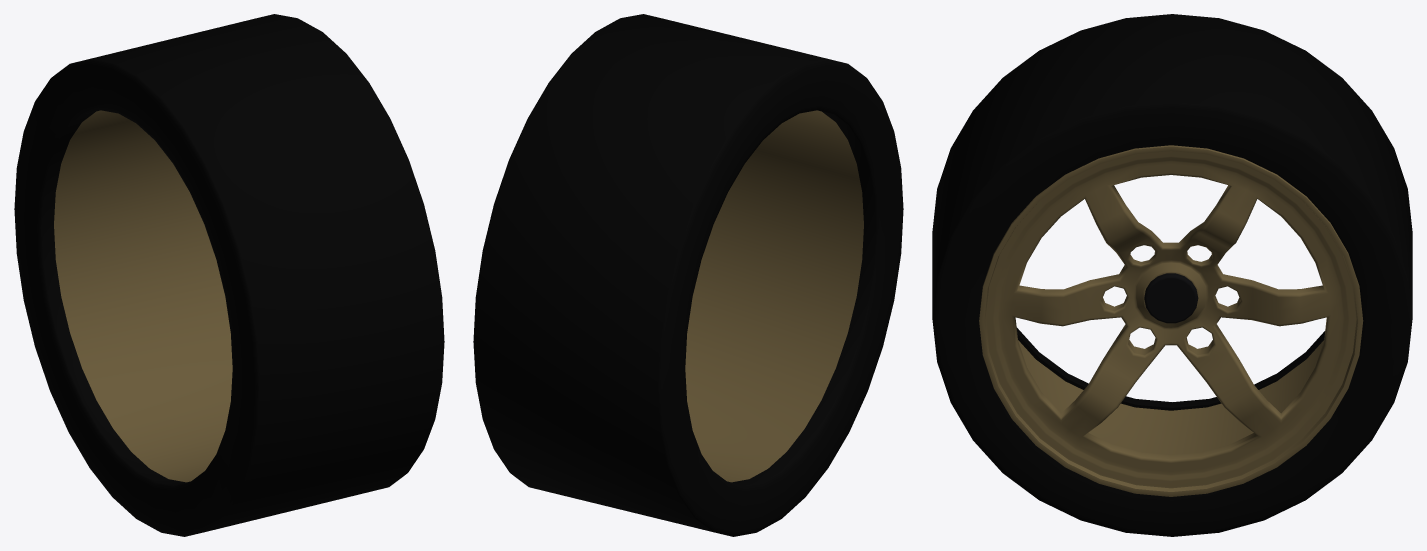
Rendered from wheels_v4.FBX.
3 views of the same model, side by side, from view 1: azimuth 30°, elevation 25°; view 2: azimuth 150°, elevation 25°; view 3: azimuth 270°, elevation 25° (orthographic).
Visible parts, largest first — view 1: Object042; view 2: Object042; view 3: Object042.
Part boxes in pixels (x1=…): Object042: x1=14, y1=14, x2=444, y2=536; Object042: x1=473, y1=14, x2=903, y2=536; Object042: x1=932, y1=14, x2=1412, y2=536.
Size of the model in its own units: 11.7 by 24.94 by 24.94.
